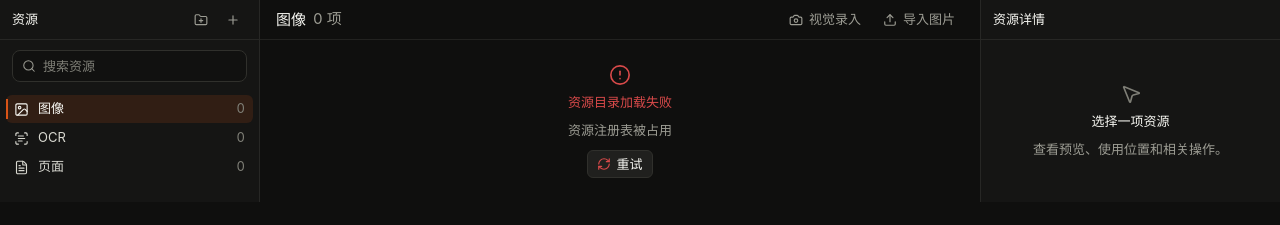
it: VNextResourceWorkspace large library › 资源接口失败时仍保留三类入口，并提供原位重试
The width and height of the screenshot is (1280, 225).
Check: the navigation bar shows "图像", box 6,95 -> 253,123
Check: the navigation bar shows "OCR", box 6,124 -> 253,152
Step 1. Click the button "重试" → coordinates (620, 164), box 588,150 -> 652,178
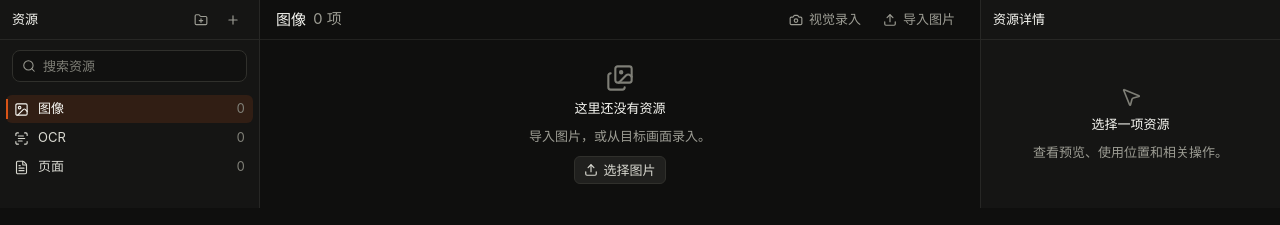
Check: the text "资源目录加载失败" is gone
